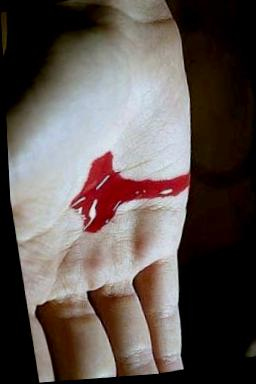Fire: (68, 154, 188, 235)
